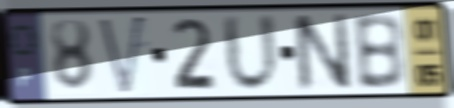2: (173, 16, 219, 94)
8: (48, 17, 94, 97)
B: (350, 11, 407, 92)
N: (289, 10, 354, 95)
U: (219, 10, 283, 96)
V: (95, 11, 149, 99)
